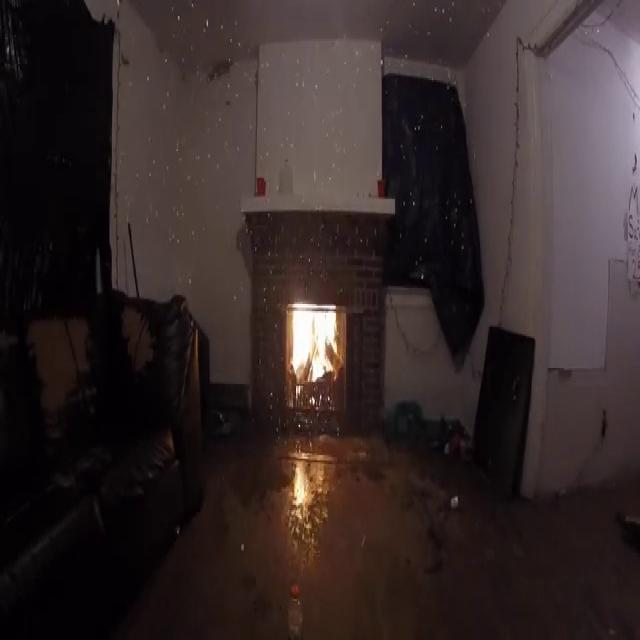fire: (276, 292, 348, 426)
